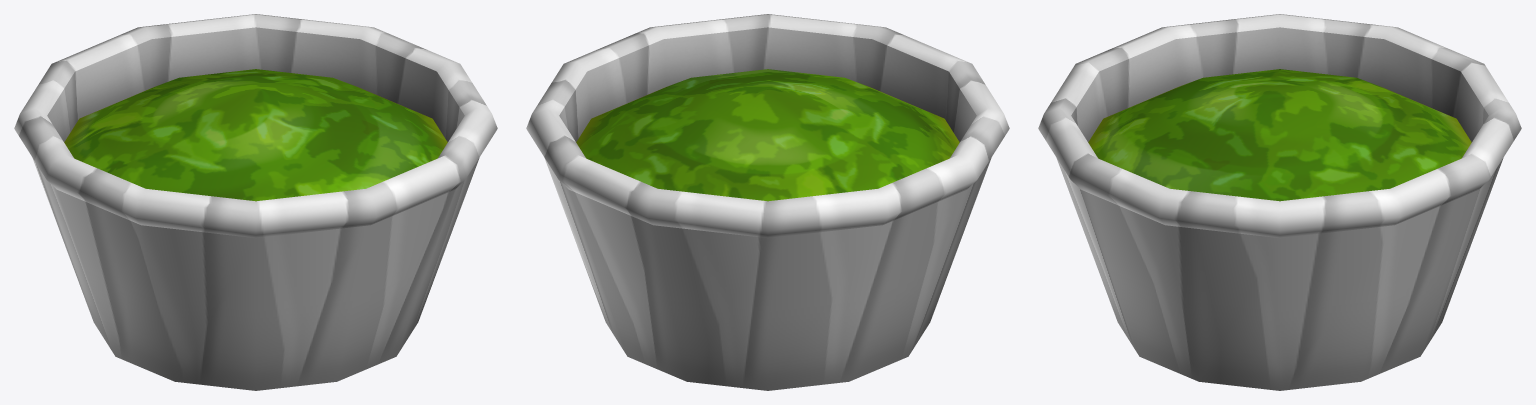
File: Relish_Cup.fbx
The picture shows the model from 3 angles, left to right: view 1: azimuth 30°, elevation 25°; view 2: azimuth 150°, elevation 25°; view 3: azimuth 270°, elevation 25°; orthographic projection.
Parts seen in each view (by area): view 1: Relish_Cup; view 2: Relish_Cup; view 3: Relish_Cup.
Boxes of the visible parts, x1,y1,x2,y2 form: Relish_Cup: (14, 14, 497, 390); Relish_Cup: (526, 14, 1009, 390); Relish_Cup: (1038, 14, 1521, 390).
Size of the model in its own units: 37.45 by 19.86 by 37.45.
